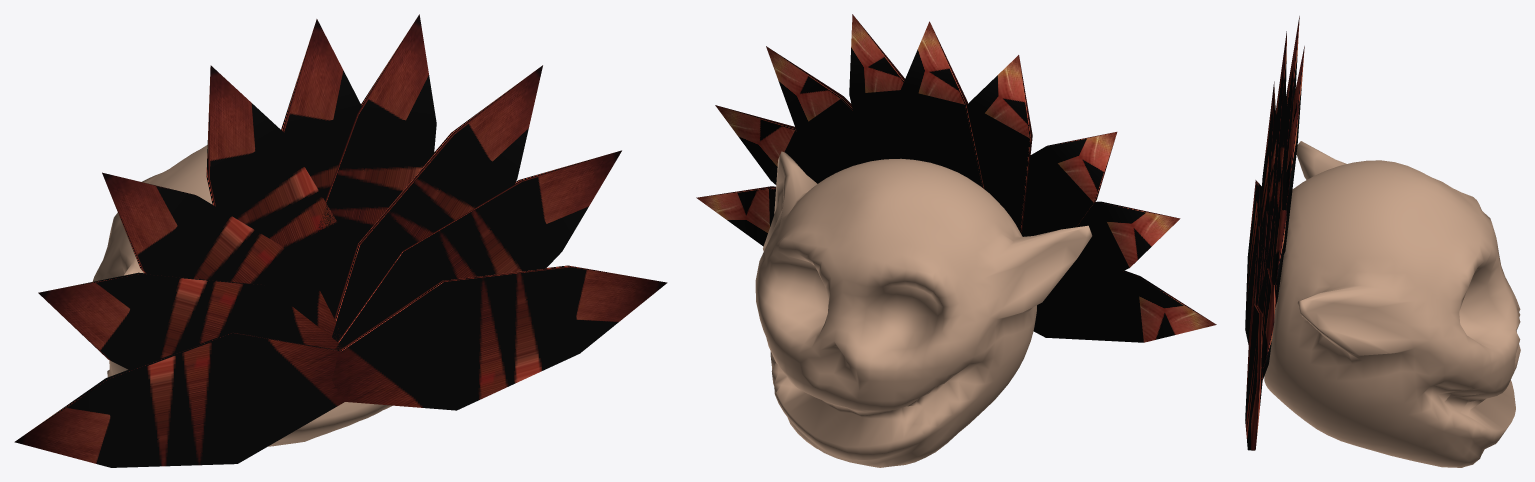
Rendered from BeastHead03.fbx.
The picture shows the model from 3 angles, left to right: view 1: azimuth 30°, elevation 25°; view 2: azimuth 150°, elevation 25°; view 3: azimuth 270°, elevation 25°; orthographic projection. The views are drawn at different scales.
Visible parts, largest first — view 1: Feather09, Feather05, Feather08, Feather04, Feather02, Feather07, Feather03, Feather06, Feather01, BeastHead1; view 2: BeastHead1, Feather05, Feather01, Feather02, Feather03, Feather04, Feather07, Feather06, Feather08, Feather09; view 3: BeastHead1, Feather09, Feather05, Feather03, Feather04, Feather08, Feather06, Feather02, Feather07, Feather01.
Boxes of the visible parts, bbox=[...] form: Feather09: bbox=[332, 265, 667, 410]; Feather05: bbox=[14, 332, 353, 467]; Feather08: bbox=[335, 150, 621, 349]; Feather04: bbox=[38, 272, 342, 370]; Feather02: bbox=[206, 65, 350, 317]; Feather07: bbox=[332, 65, 542, 341]; Feather03: bbox=[102, 172, 340, 340]; Feather06: bbox=[309, 14, 436, 316]; Feather01: bbox=[281, 19, 361, 200]; BeastHead1: bbox=[92, 145, 392, 446]; BeastHead1: bbox=[755, 151, 1092, 467]; Feather05: bbox=[1033, 270, 1216, 342]; Feather01: bbox=[894, 21, 984, 189]; Feather02: bbox=[967, 55, 1032, 232]; Feather03: bbox=[1021, 132, 1117, 236]; Feather04: bbox=[1040, 201, 1180, 305]; Feather07: bbox=[766, 46, 864, 177]; Feather06: bbox=[849, 14, 904, 162]; Feather08: bbox=[715, 105, 825, 184]; Feather09: bbox=[696, 186, 775, 246]; BeastHead1: bbox=[1264, 141, 1520, 467]; Feather09: bbox=[1245, 305, 1262, 450]; Feather05: bbox=[1245, 180, 1262, 344]; Feather03: bbox=[1263, 31, 1286, 279]; Feather04: bbox=[1258, 81, 1275, 301]; Feather08: bbox=[1258, 268, 1276, 379]; Feather06: bbox=[1275, 102, 1299, 309]; Feather02: bbox=[1274, 16, 1299, 224]; Feather07: bbox=[1266, 210, 1286, 306]; Feather01: bbox=[1284, 46, 1304, 253].
Size of the model in its own units: 198 by 139 by 85.25.
